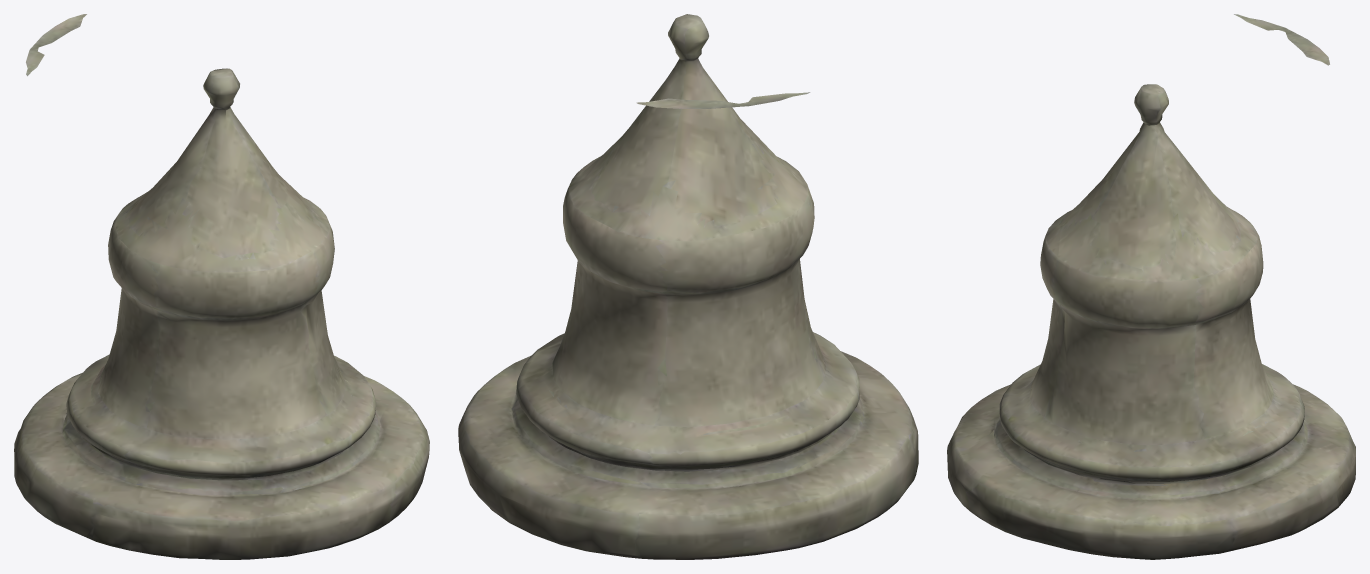
File: old-limestone-turret-top-v001.glb
3 renders of one model, left to right at view 1: azimuth 30°, elevation 25°; view 2: azimuth 150°, elevation 25°; view 3: azimuth 270°, elevation 25°, orthographic. The views are drawn at different scales.
Parts seen in each view (by area): view 1: old-limestone-turret-top; view 2: old-limestone-turret-top; view 3: old-limestone-turret-top.
Boxes of the visible parts, x1,y1,x2,y2 form: old-limestone-turret-top: [14, 14, 429, 559]; old-limestone-turret-top: [458, 14, 918, 559]; old-limestone-turret-top: [947, 14, 1355, 559].
Bounding box in the file's own units: 2.07 × 2.23 × 2.1.
1 material, 1 textured.
